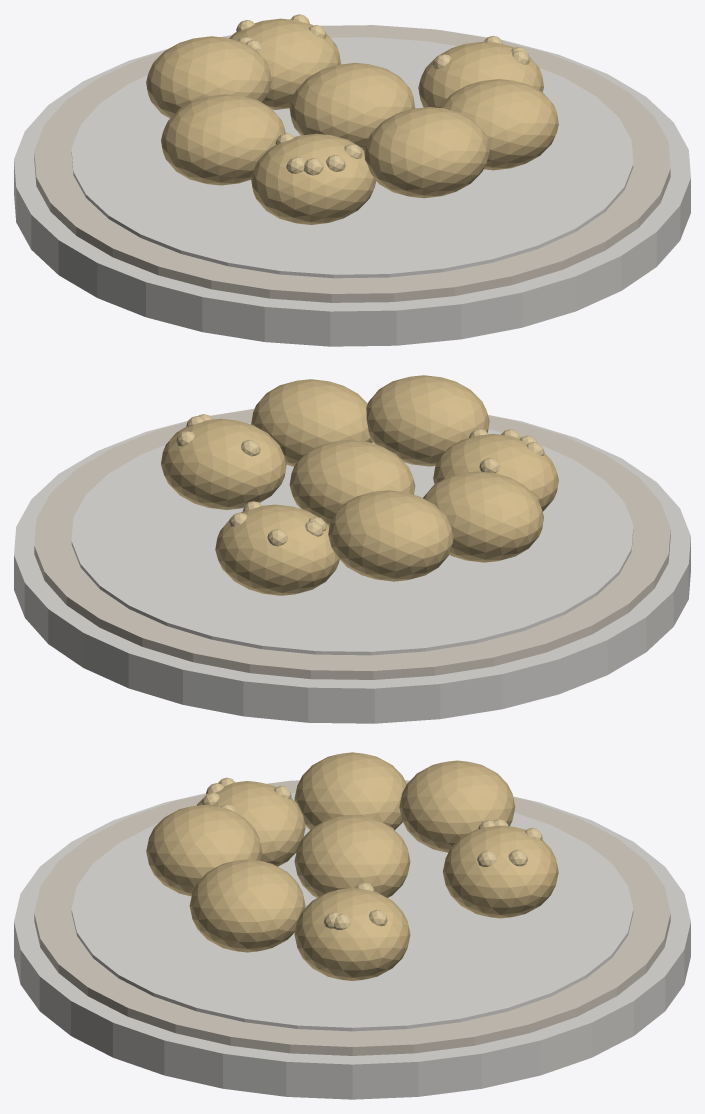
The model's file is ca_vien.glb.
3 renders of one model, top to bottom at view 1: azimuth 30°, elevation 25°; view 2: azimuth 150°, elevation 25°; view 3: azimuth 270°, elevation 25°, orthographic.
Parts seen in each view (by area): view 1: obj_0002, obj_0000, obj_0001, obj_0015, obj_0027, obj_0021, obj_0045, obj_0033, obj_0009, obj_0039, obj_0003; view 2: obj_0002, obj_0000, obj_0001, obj_0033, obj_0003, obj_0039, obj_0015, obj_0027, obj_0009, obj_0045, obj_0021; view 3: obj_0002, obj_0000, obj_0001, obj_0009, obj_0039, obj_0003, obj_0045, obj_0033, obj_0015, obj_0027, obj_0021.
Boxes of the visible parts, x1=… form: obj_0002: x1=71, y1=37, x2=633, y2=278; obj_0000: x1=14, y1=30, x2=690, y2=346; obj_0001: x1=34, y1=25, x2=670, y2=302; obj_0015: x1=364, y1=107, x2=489, y2=198; obj_0027: x1=161, y1=94, x2=285, y2=185; obj_0021: x1=251, y1=133, x2=376, y2=224; obj_0045: x1=289, y1=62, x2=415, y2=150; obj_0033: x1=146, y1=36, x2=271, y2=118; obj_0009: x1=439, y1=79, x2=558, y2=170; obj_0039: x1=229, y1=18, x2=340, y2=109; obj_0003: x1=418, y1=41, x2=543, y2=107; obj_0002: x1=71, y1=422, x2=633, y2=655; obj_0000: x1=14, y1=408, x2=690, y2=723; obj_0001: x1=34, y1=402, x2=670, y2=679; obj_0033: x1=328, y1=490, x2=453, y2=581; obj_0003: x1=161, y1=418, x2=286, y2=509; obj_0039: x1=215, y1=504, x2=339, y2=595; obj_0015: x1=366, y1=375, x2=489, y2=466; obj_0027: x1=423, y1=471, x2=543, y2=562; obj_0009: x1=251, y1=379, x2=372, y2=466; obj_0045: x1=289, y1=440, x2=415, y2=526; obj_0021: x1=433, y1=434, x2=558, y2=511; obj_0002: x1=71, y1=793, x2=633, y2=1031; obj_0000: x1=14, y1=793, x2=690, y2=1099; obj_0001: x1=34, y1=780, x2=670, y2=1055; obj_0009: x1=189, y1=859, x2=305, y2=952; obj_0039: x1=443, y1=825, x2=558, y2=918; obj_0003: x1=294, y1=888, x2=410, y2=980; obj_0045: x1=294, y1=815, x2=410, y2=897; obj_0033: x1=399, y1=760, x2=515, y2=852; obj_0015: x1=146, y1=804, x2=262, y2=896; obj_0027: x1=294, y1=752, x2=406, y2=829; obj_0021: x1=197, y1=781, x2=305, y2=866.
Bounding box in the file's own units: 2.1 × 0.49 × 2.1.
